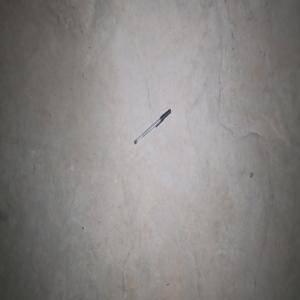Pen: (134, 108, 171, 144)
